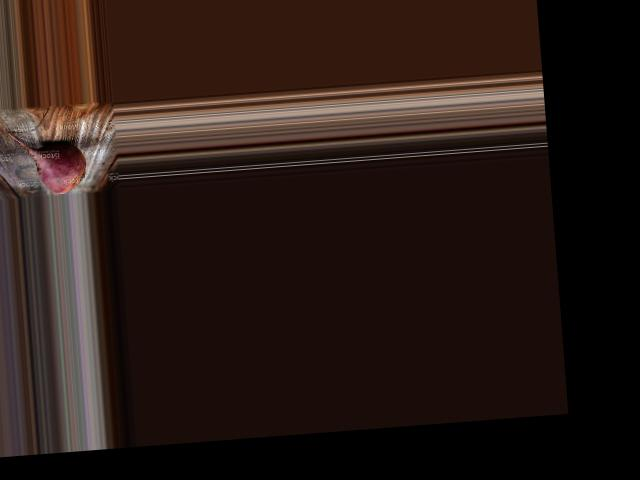beet: (7, 126, 87, 197)
